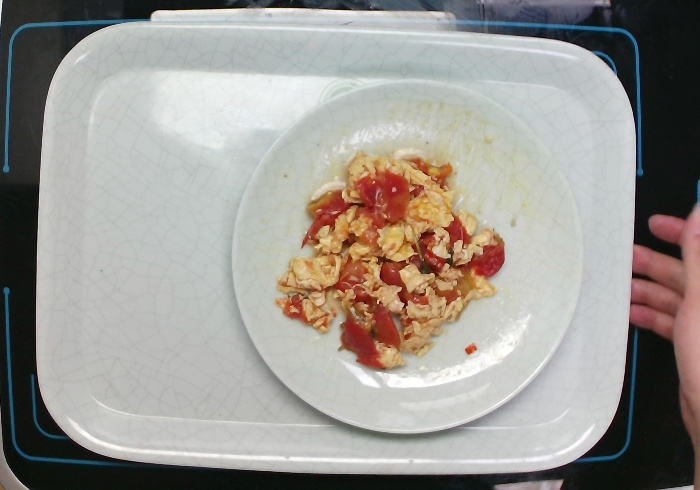JYsf-Da_Yuan_Pan: (222, 74, 586, 439)
